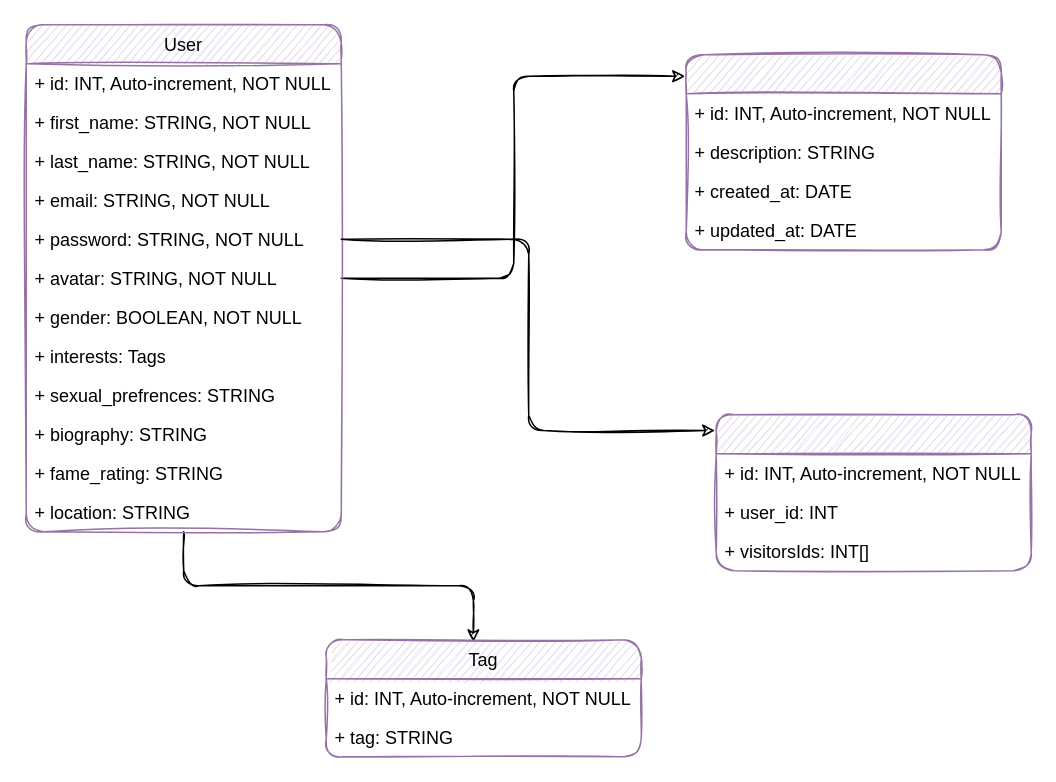
Image size: 1056x782. Some labels were removed from this diagram. Each missing label, with the box of its shape:
Post: (685, 53, 1001, 250)
VisitHistory: (715, 413, 1031, 571)
